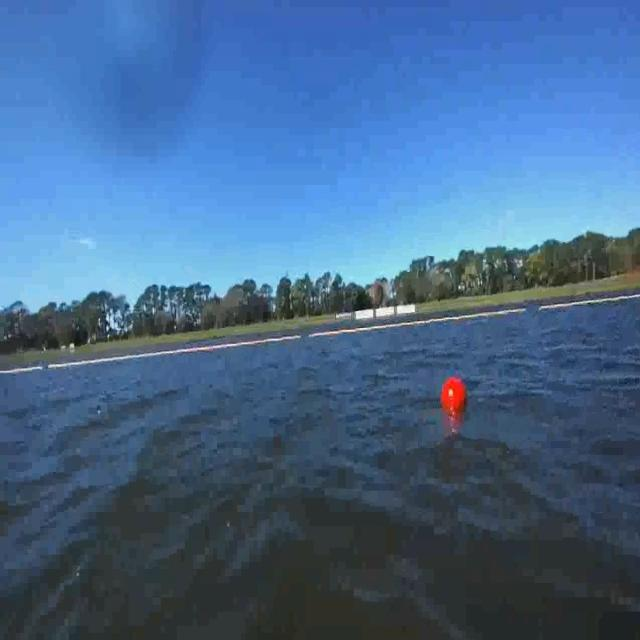red-buoy: (441, 376, 465, 409)
